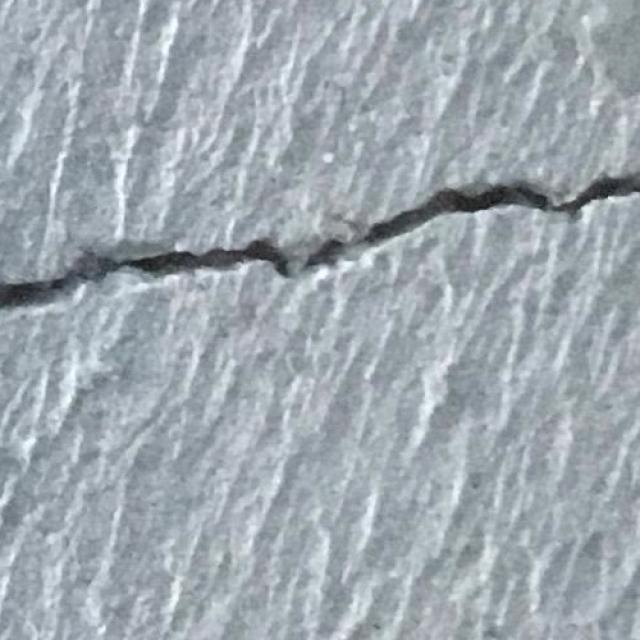horizontal crack: (0, 145, 626, 386)
